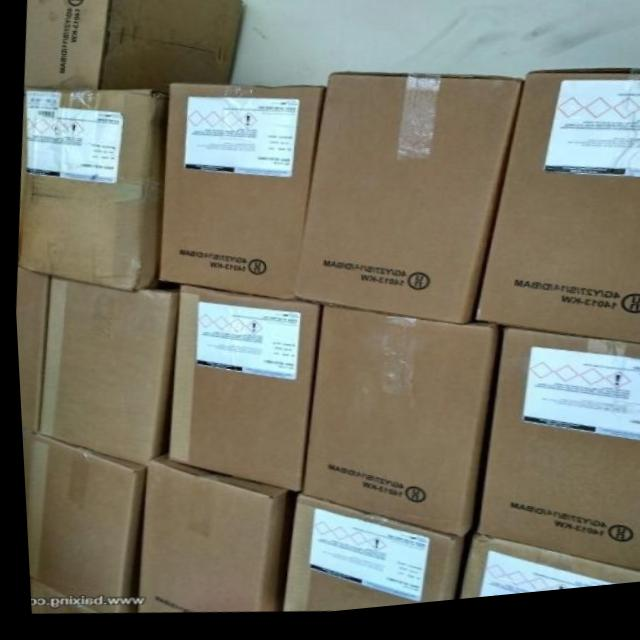box: (291, 79, 518, 331), (297, 312, 496, 546), (471, 78, 640, 352), (473, 335, 640, 582), (154, 86, 323, 303), (164, 285, 318, 497), (19, 90, 164, 290), (32, 276, 174, 468), (128, 457, 284, 615), (18, 432, 143, 613), (274, 500, 461, 613), (24, 0, 241, 93), (448, 538, 637, 608), (13, 266, 46, 434), (24, 579, 88, 611)
